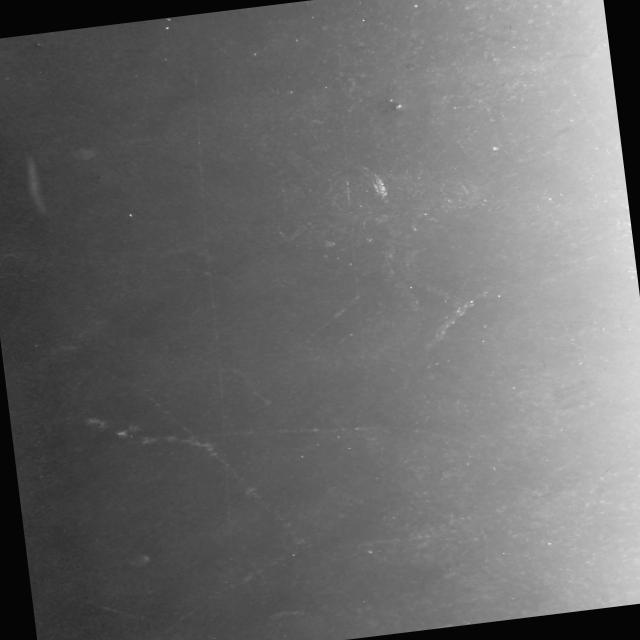beta: (96, 338, 310, 572), (81, 547, 311, 640), (198, 398, 461, 472), (75, 398, 216, 464), (298, 288, 369, 344), (560, 67, 608, 145), (80, 590, 151, 628), (262, 600, 319, 626), (386, 618, 464, 634)
